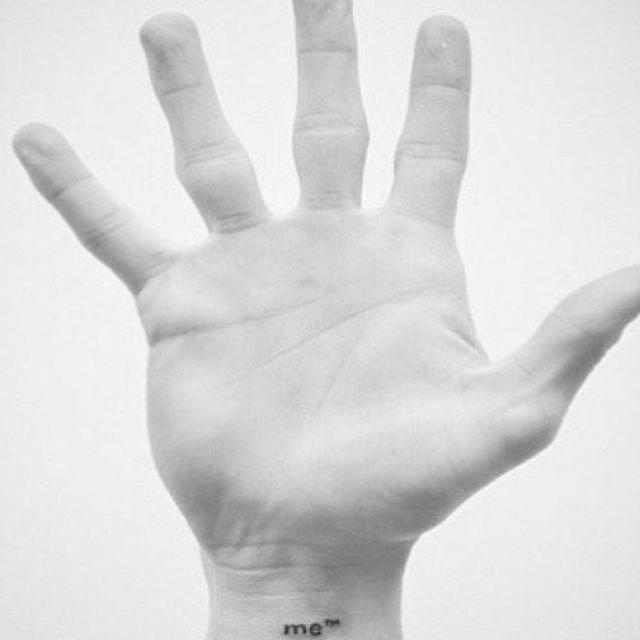stop: (1, 0, 640, 574)
